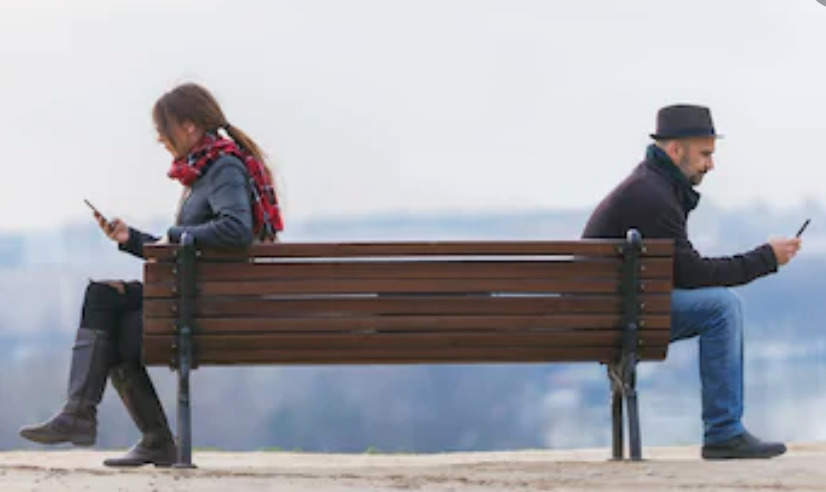Good: (95, 83, 728, 249)
